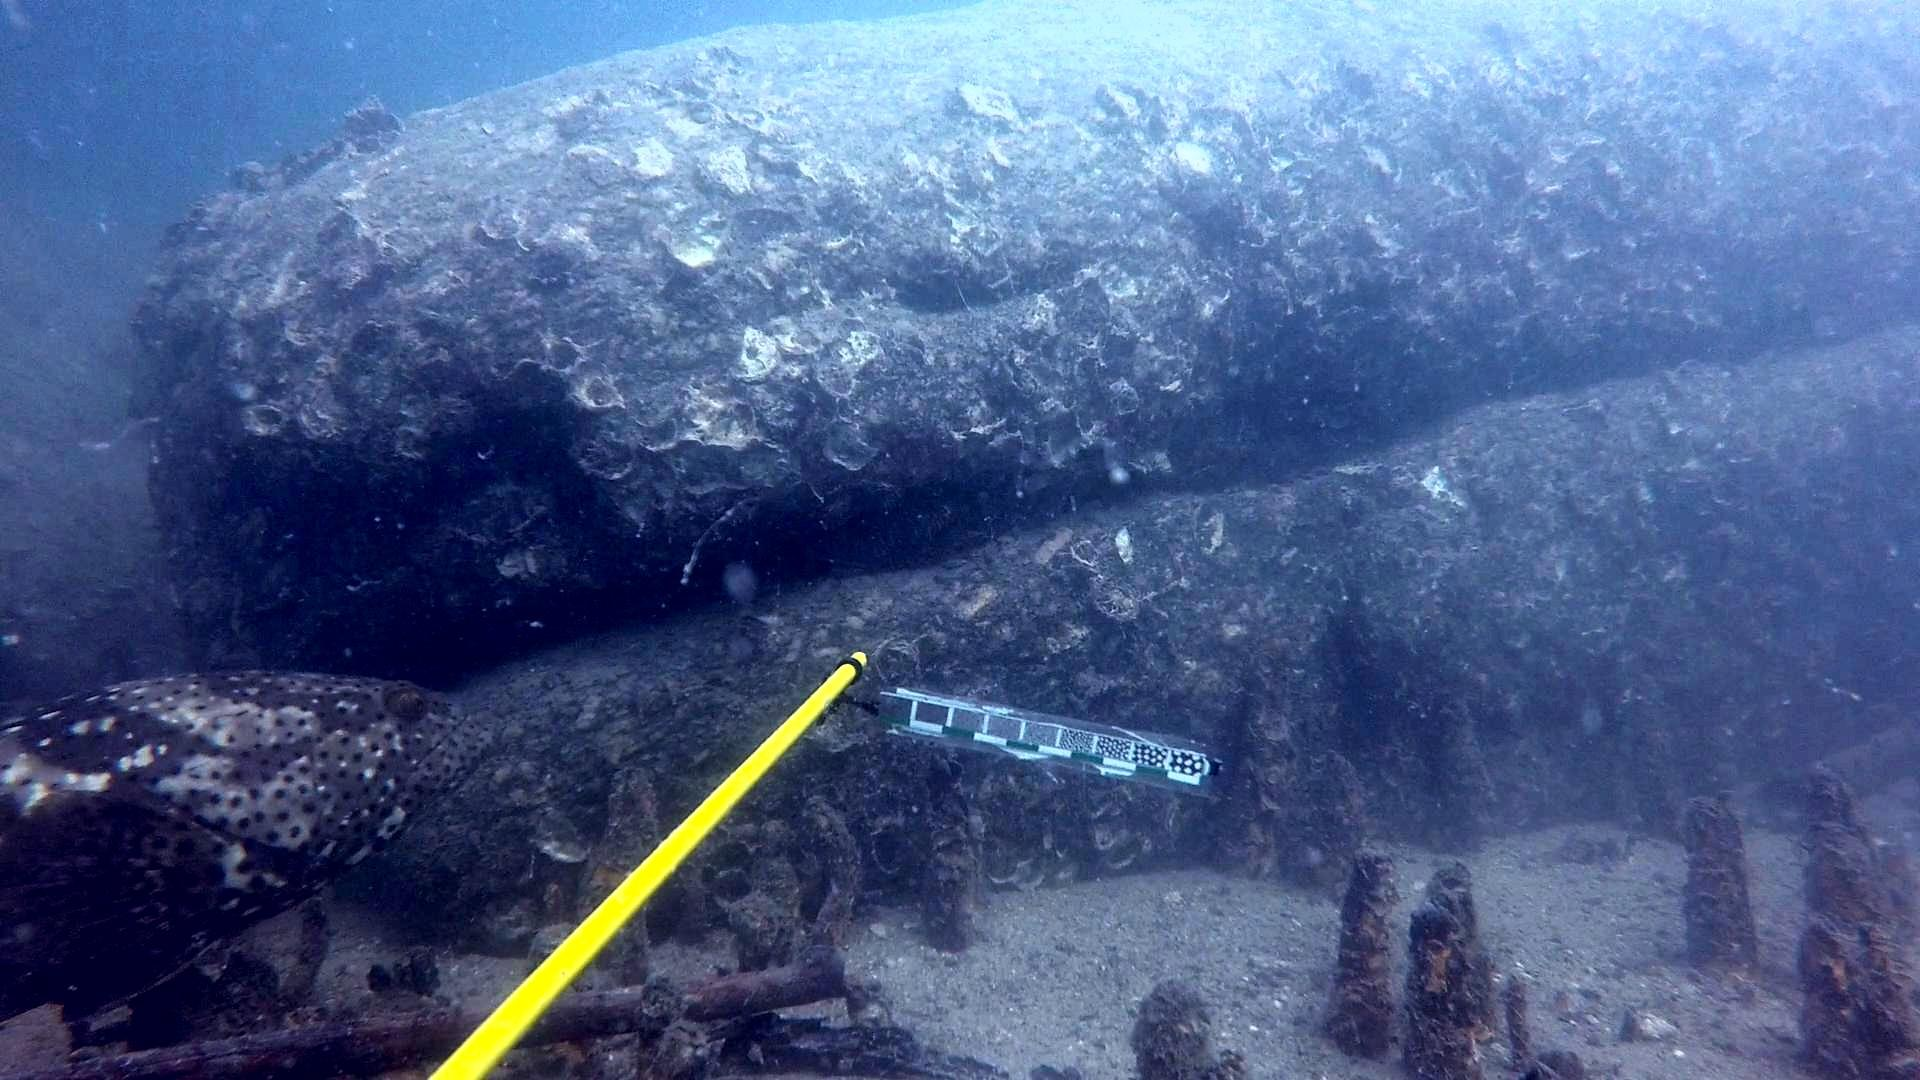epinephelus: (2, 661, 520, 1029)
